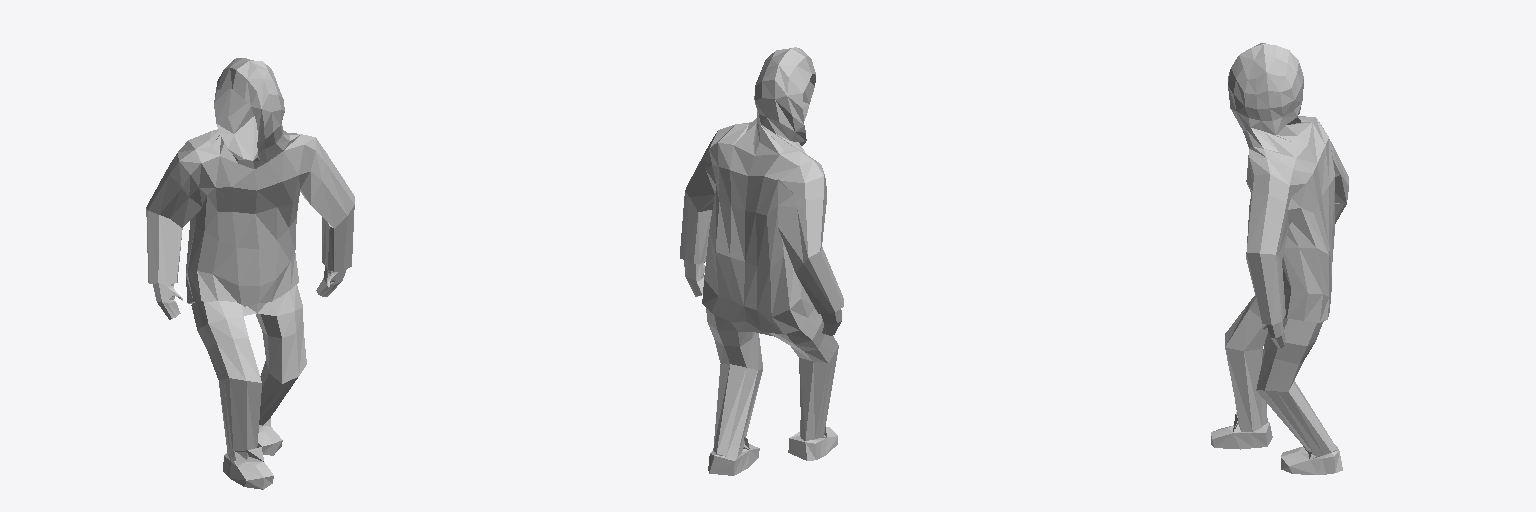
File: Shadowmanv_000020.obj
3 views of the same model, side by side, from view 1: azimuth 30°, elevation 25°; view 2: azimuth 150°, elevation 25°; view 3: azimuth 270°, elevation 25° (orthographic).
Parts seen in each view (by area): view 1: Cube.000; view 2: Cube.000; view 3: Cube.000.
Part boxes in pixels (left/top/right/bottom): Cube.000: left=146, top=58, right=354, bottom=489; Cube.000: left=680, top=47, right=843, bottom=475; Cube.000: left=1211, top=43, right=1348, bottom=474.
Bounding box in the file's own units: 5.28 × 11.3 × 3.47.